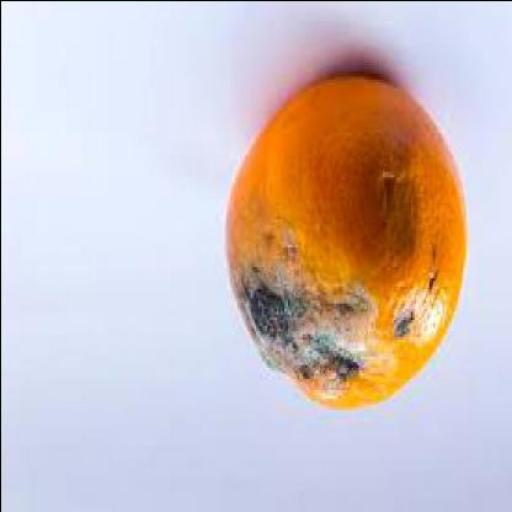biodegradable: (227, 73, 470, 411)
